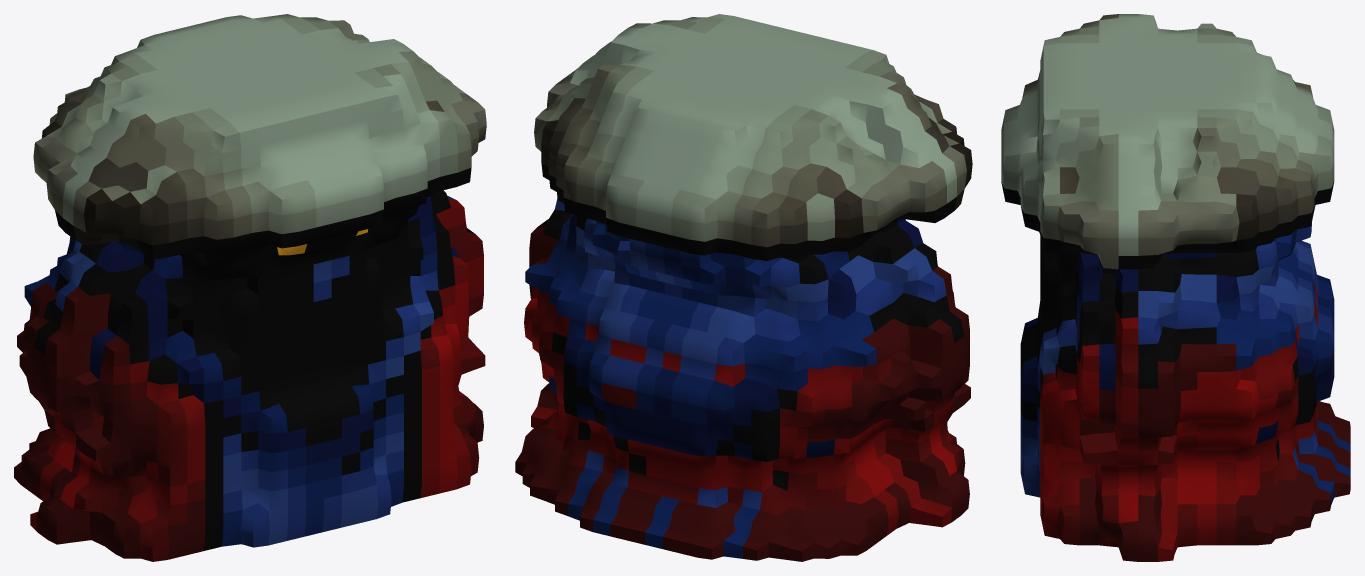
Rendered from Icon_732_03.obj.
The picture shows the model from 3 angles, left to right: view 1: azimuth 30°, elevation 25°; view 2: azimuth 150°, elevation 25°; view 3: azimuth 270°, elevation 25°; orthographic projection. The views are drawn at different scales.
Bounding box in the file's own units: 2.4 × 2.2 × 1.78.
1 material, 1 textured.
